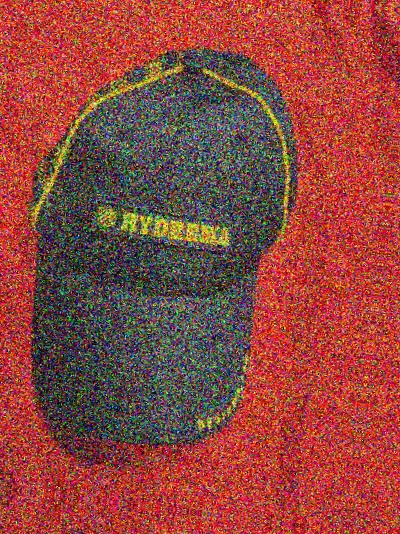Hat: (0, 11, 361, 482), (0, 528, 296, 534), (399, 66, 400, 534)
